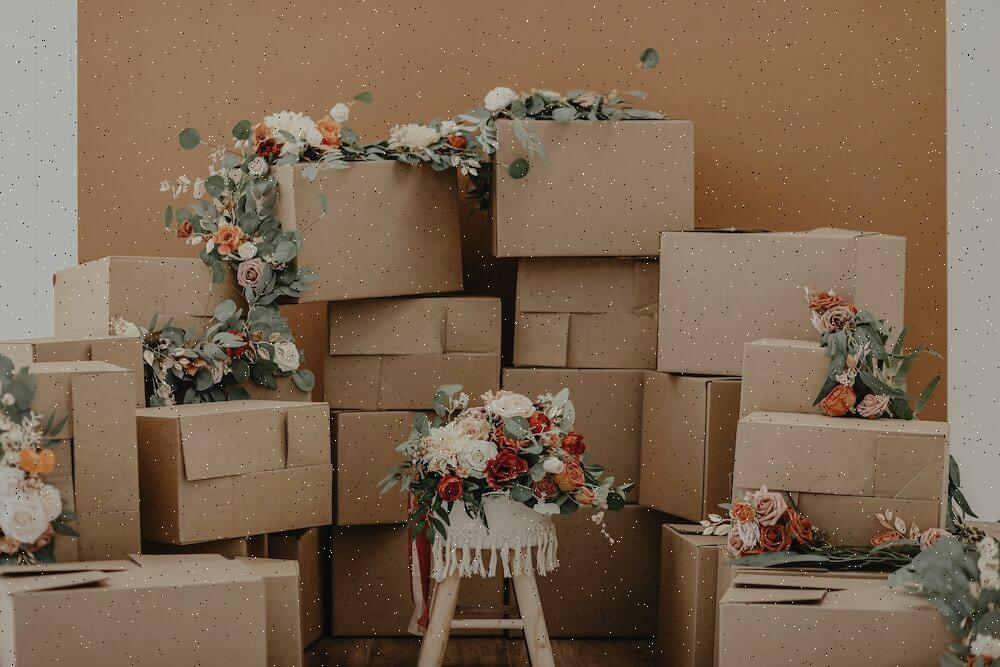Box: (658, 229, 906, 374), (0, 557, 266, 666), (492, 119, 693, 258), (138, 400, 332, 544), (271, 160, 463, 303), (734, 412, 949, 517), (29, 361, 141, 561), (719, 582, 953, 666), (502, 369, 645, 503), (537, 506, 664, 637), (49, 260, 235, 342), (639, 371, 740, 521), (328, 297, 500, 355), (324, 353, 500, 409), (332, 410, 416, 525), (658, 523, 725, 666), (332, 525, 412, 637), (516, 258, 660, 313), (514, 313, 658, 368), (459, 568, 504, 608)
